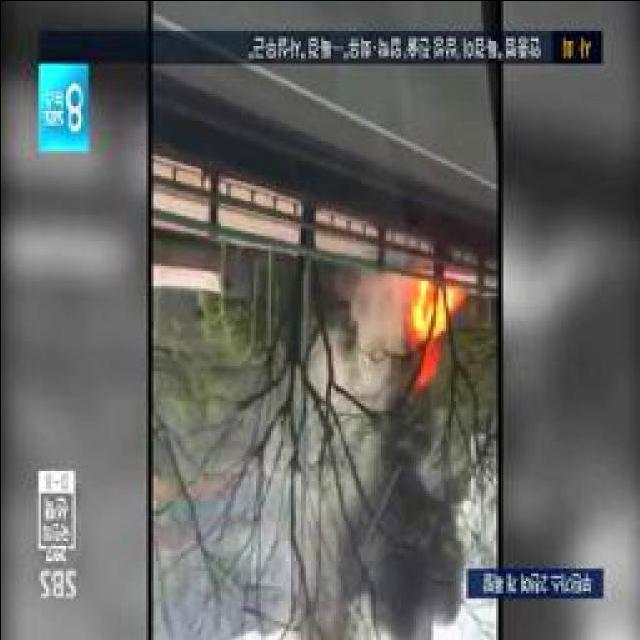Fire: (404, 276, 464, 371)
